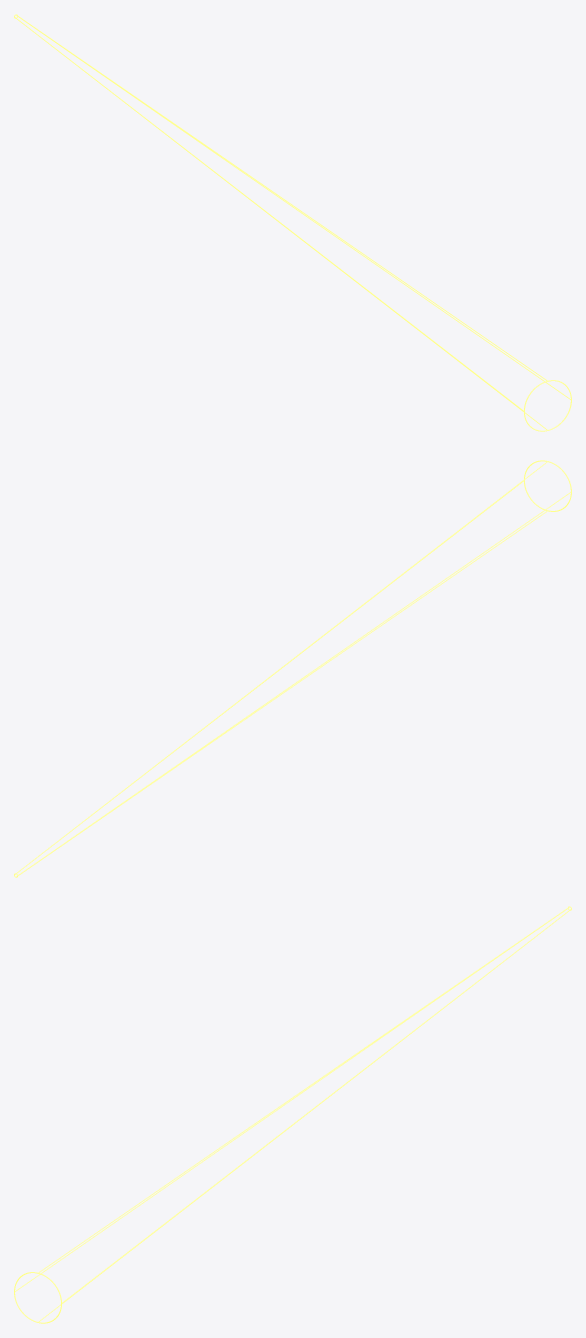
File: nadir_cage_igso.glb
3 renders of one model, top to bottom at view 1: azimuth 30°, elevation 25°; view 2: azimuth 150°, elevation 25°; view 3: azimuth 330°, elevation 25°, orthographic.
Parts seen in each view (by area): view 1: NadirCageNode; view 2: NadirCageNode; view 3: NadirCageNode.
Boxes of the visible parts, x1,y1,x2,y2 form: NadirCageNode: [14, 14, 571, 431]; NadirCageNode: [14, 460, 571, 877]; NadirCageNode: [14, 906, 571, 1323].
Bounding box in the file's own units: 2.35 × 2.35 × 45.04.
